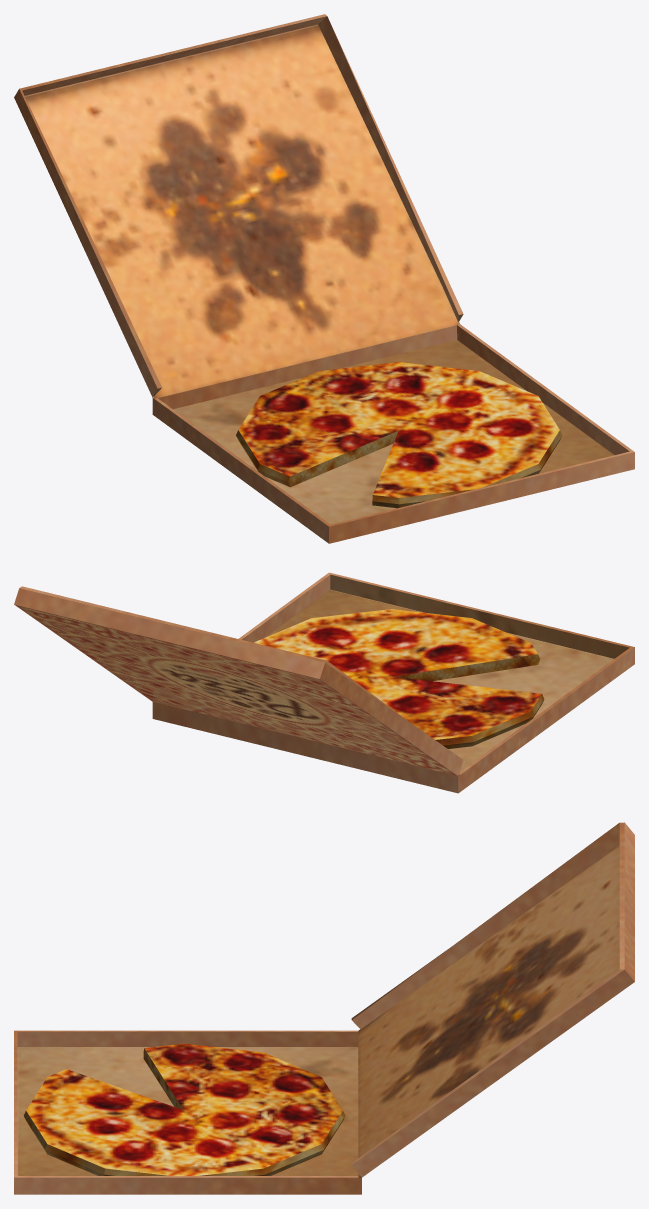
File: pizza_one_slice_gone.glb
3 renders of one model, top to bottom at view 1: azimuth 30°, elevation 25°; view 2: azimuth 150°, elevation 25°; view 3: azimuth 270°, elevation 25°, orthographic.
Visible parts, largest first — view 1: pizza one slice gone; view 2: pizza one slice gone; view 3: pizza one slice gone.
Part boxes in pixels (<box>): pizza one slice gone: <box>14,14,634,543</box>; pizza one slice gone: <box>14,572,634,793</box>; pizza one slice gone: <box>14,822,634,1194</box>.
Size of the model in its own units: 0.5276 by 0.3762 by 0.9413.
Materials: 2 (2 with a texture image).
